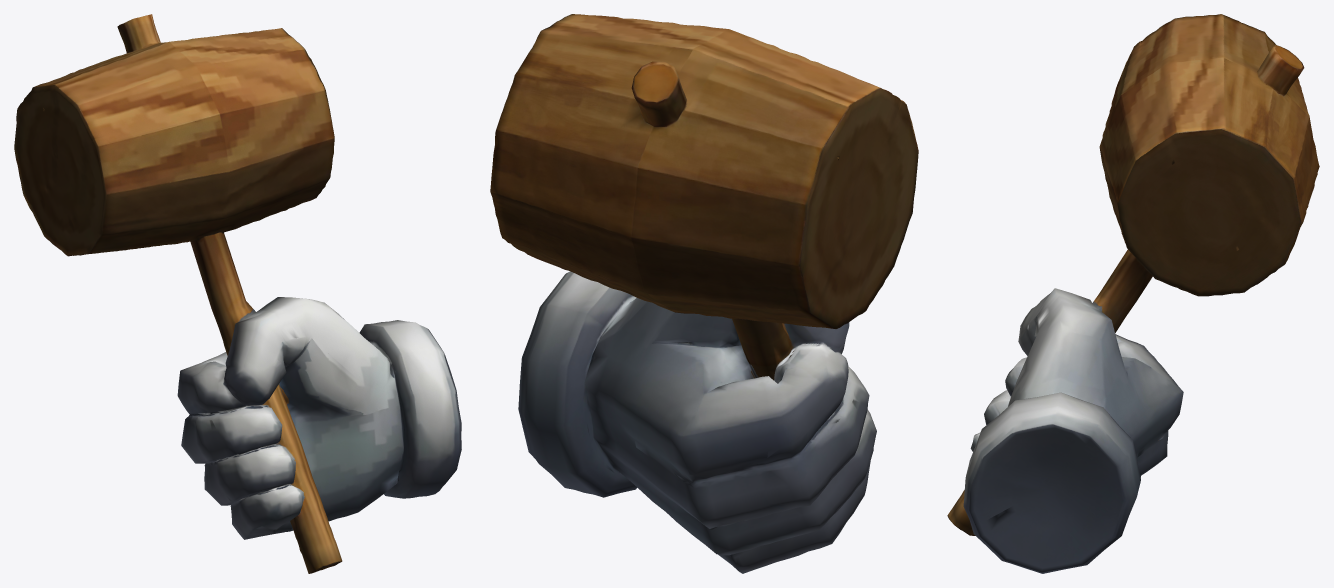
File: mallet.glb
3 renders of one model, left to right at view 1: azimuth 30°, elevation 25°; view 2: azimuth 150°, elevation 25°; view 3: azimuth 270°, elevation 25°, orthographic. The views are drawn at different scales.
Parts seen in each view (by area): view 1: tripo_node_8566013e-bc77-4b89-a2e5-791af8bd0885; view 2: tripo_node_8566013e-bc77-4b89-a2e5-791af8bd0885; view 3: tripo_node_8566013e-bc77-4b89-a2e5-791af8bd0885.
Part boxes in pixels (bbox=[...]): tripo_node_8566013e-bc77-4b89-a2e5-791af8bd0885: bbox=[14, 14, 461, 573]; tripo_node_8566013e-bc77-4b89-a2e5-791af8bd0885: bbox=[490, 14, 918, 573]; tripo_node_8566013e-bc77-4b89-a2e5-791af8bd0885: bbox=[947, 14, 1319, 573].
Bounding box in the file's own units: 0.664 × 0.9778 × 0.7023.
Materials: 1 (1 with a texture image).
